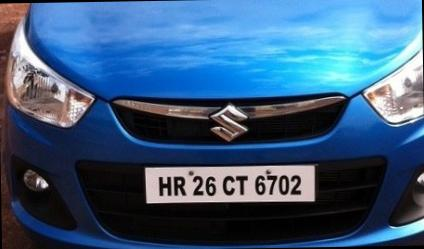plate: (140, 147, 325, 221)
